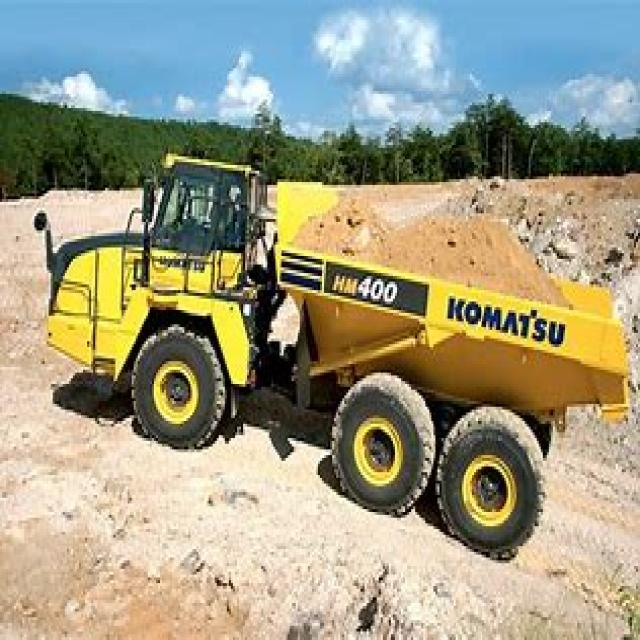dump_truck: (40, 131, 632, 552)
